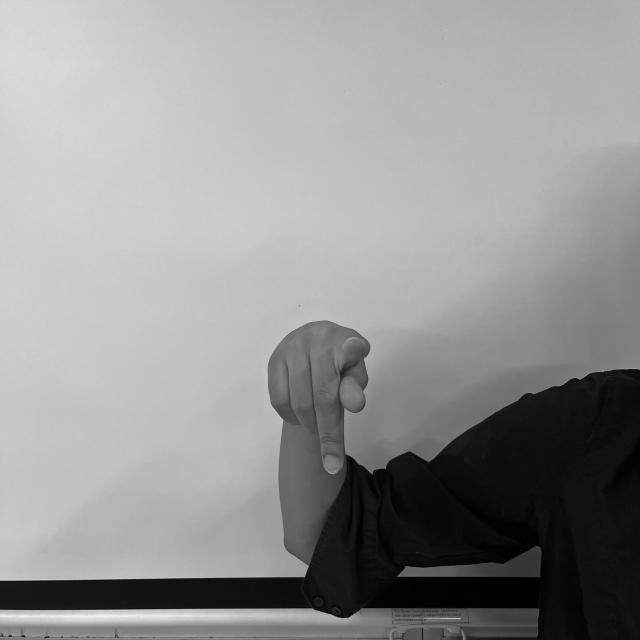Letra P: (262, 312, 374, 478)
